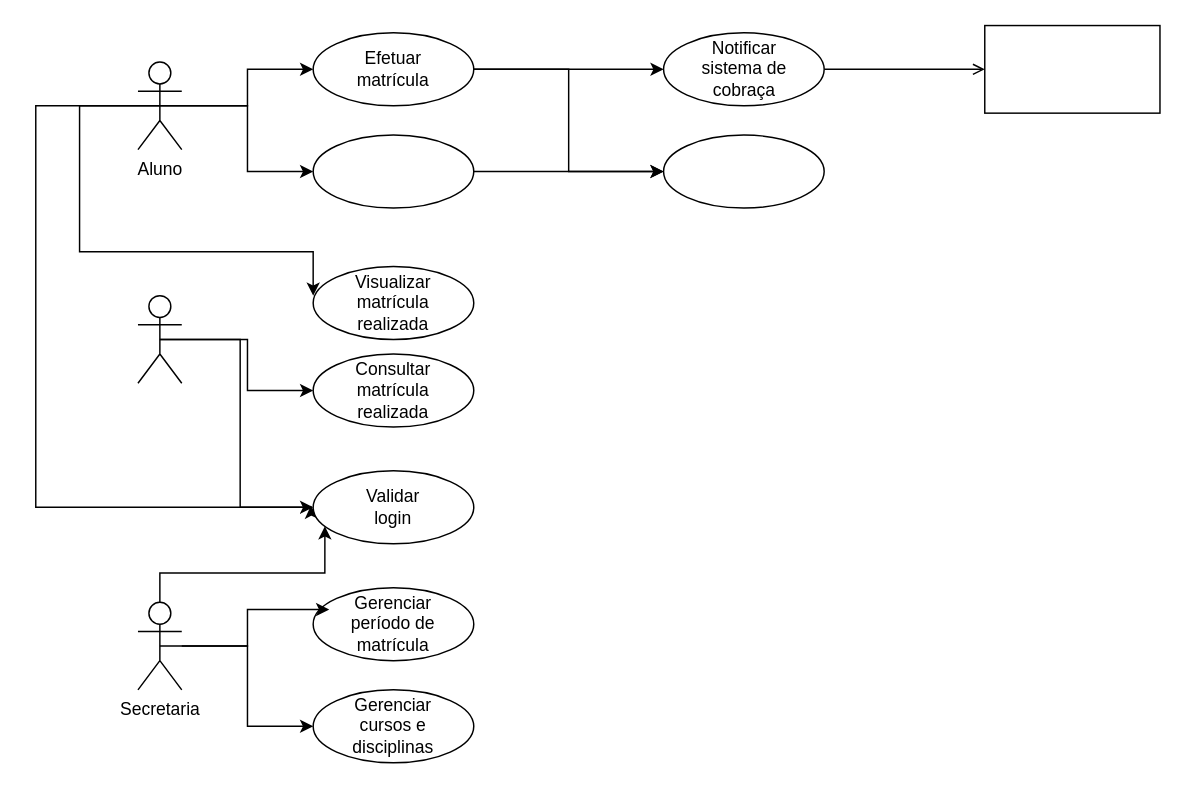
Image size: 1186x788. Some labels were removed from this diagram. Here are the shapes that lost their labels. From the top down, the centre of each, then its label:
the point at 1071,68: Sistema de cobrança
the point at 393,171: Cancelar matrícula
the point at 743,171: Verificar ativação de disciplina
the point at 159,338: Professor
